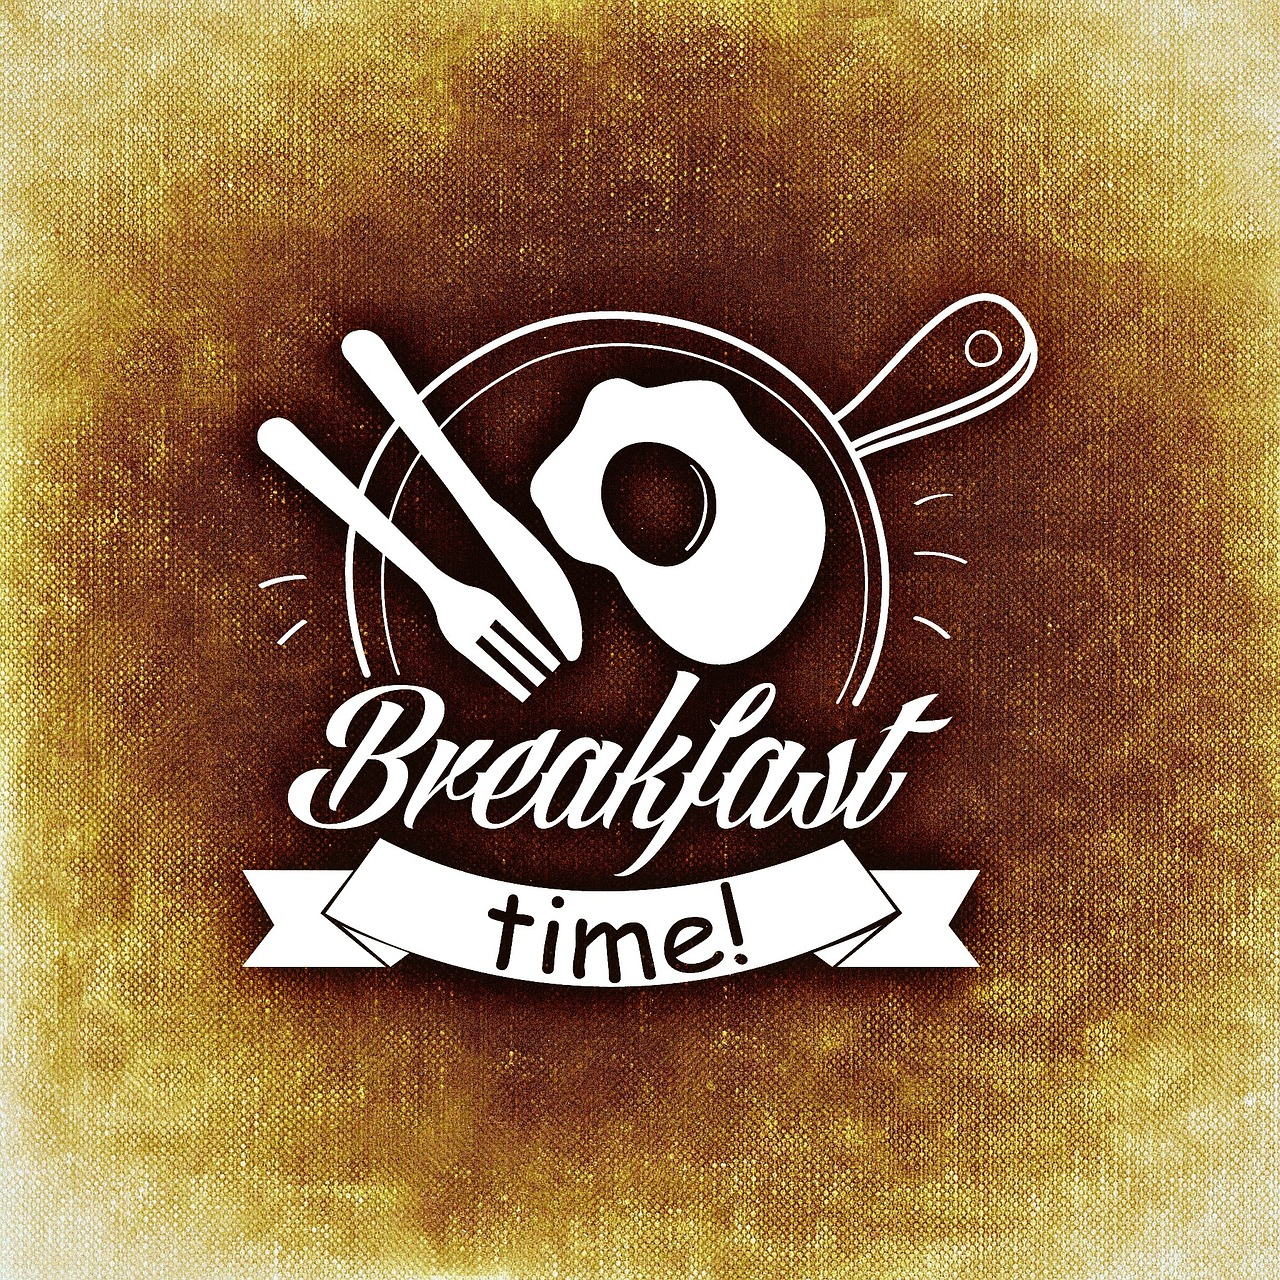knife: (334, 327, 605, 669)
